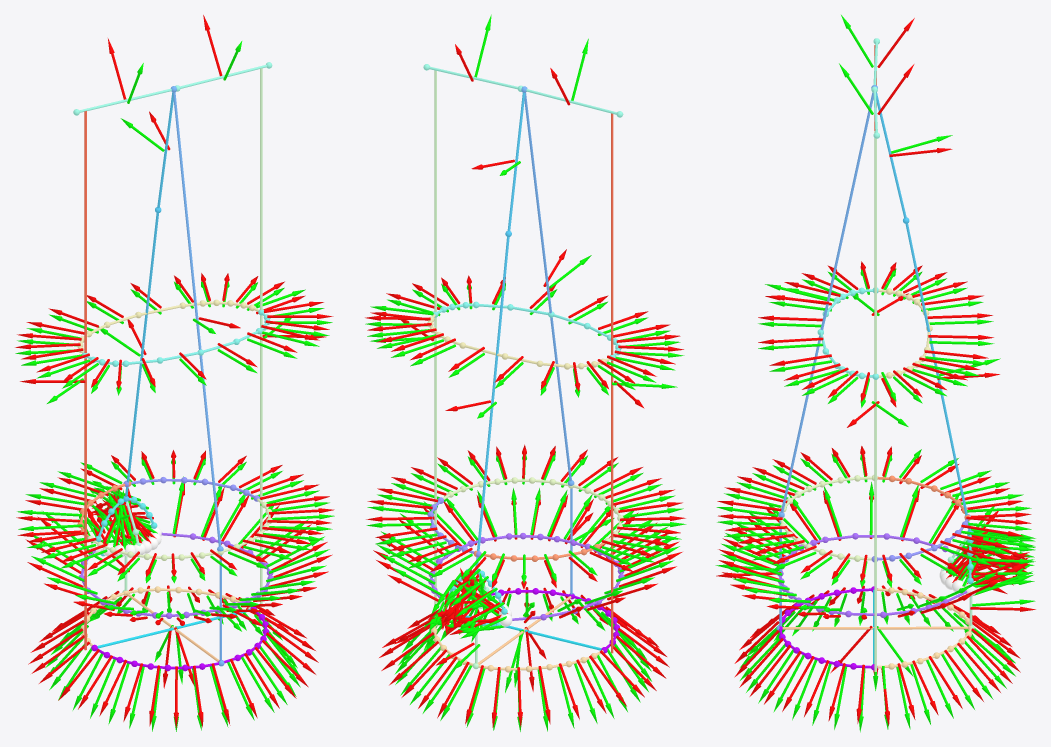
Rendered from t2f_toothpaste.gltf.
The picture shows the model from 3 angles, left to right: view 1: azimuth 30°, elevation 25°; view 2: azimuth 150°, elevation 25°; view 3: azimuth 270°, elevation 25°; orthographic projection.
Size of the model in its own units: 0.5033 by 1.08 by 0.4836.
